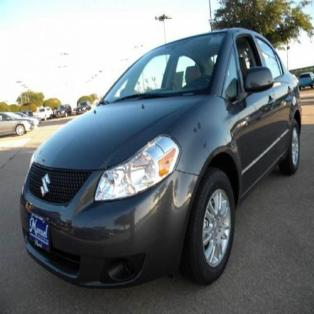Auto: (19, 27, 302, 290)
